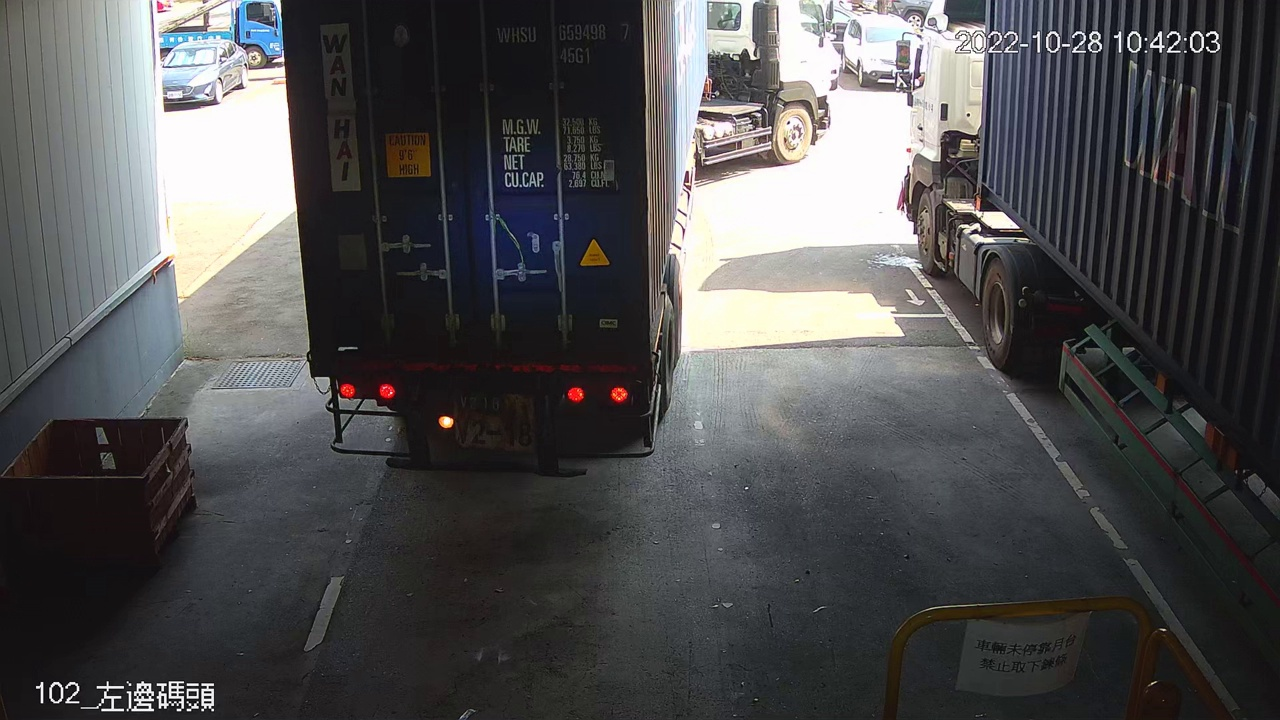container: (491, 16, 634, 72)
